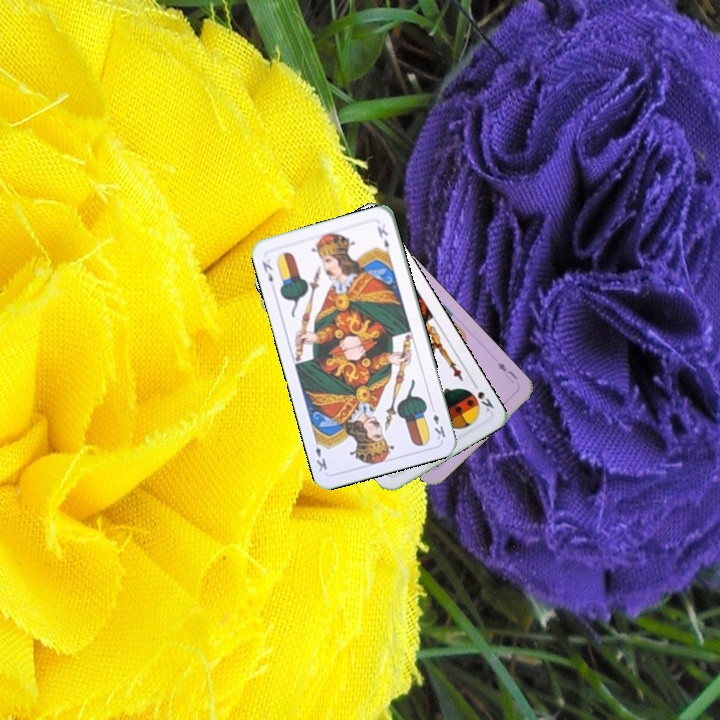EK: (427, 401, 448, 442), (258, 257, 276, 285)
EU: (493, 358, 520, 386)
SK: (468, 378, 496, 414)
